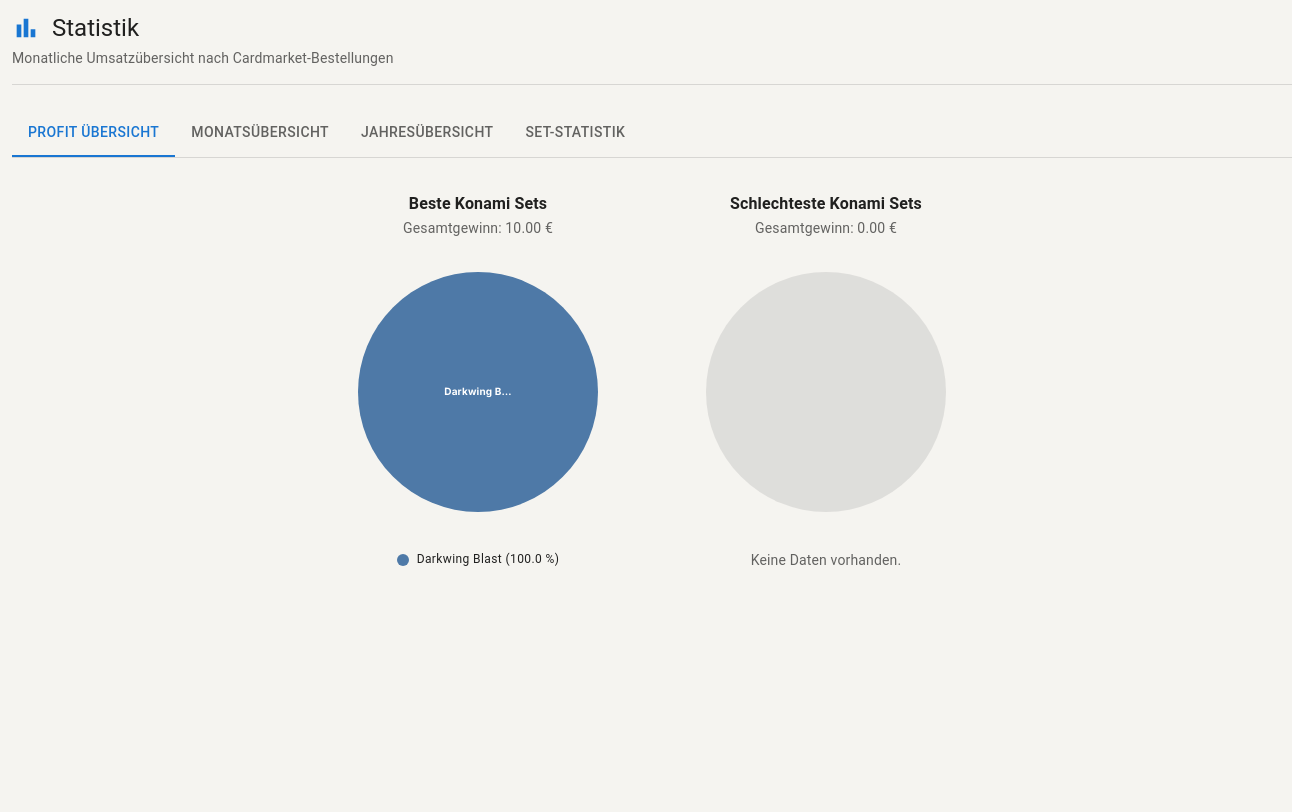
Test: Statistik › shows monthly rows in Monatsübersicht tab after clicking it
Step 1. Click the tab "Monatsübersicht" → x=260, y=133, box [175,109,345,157]
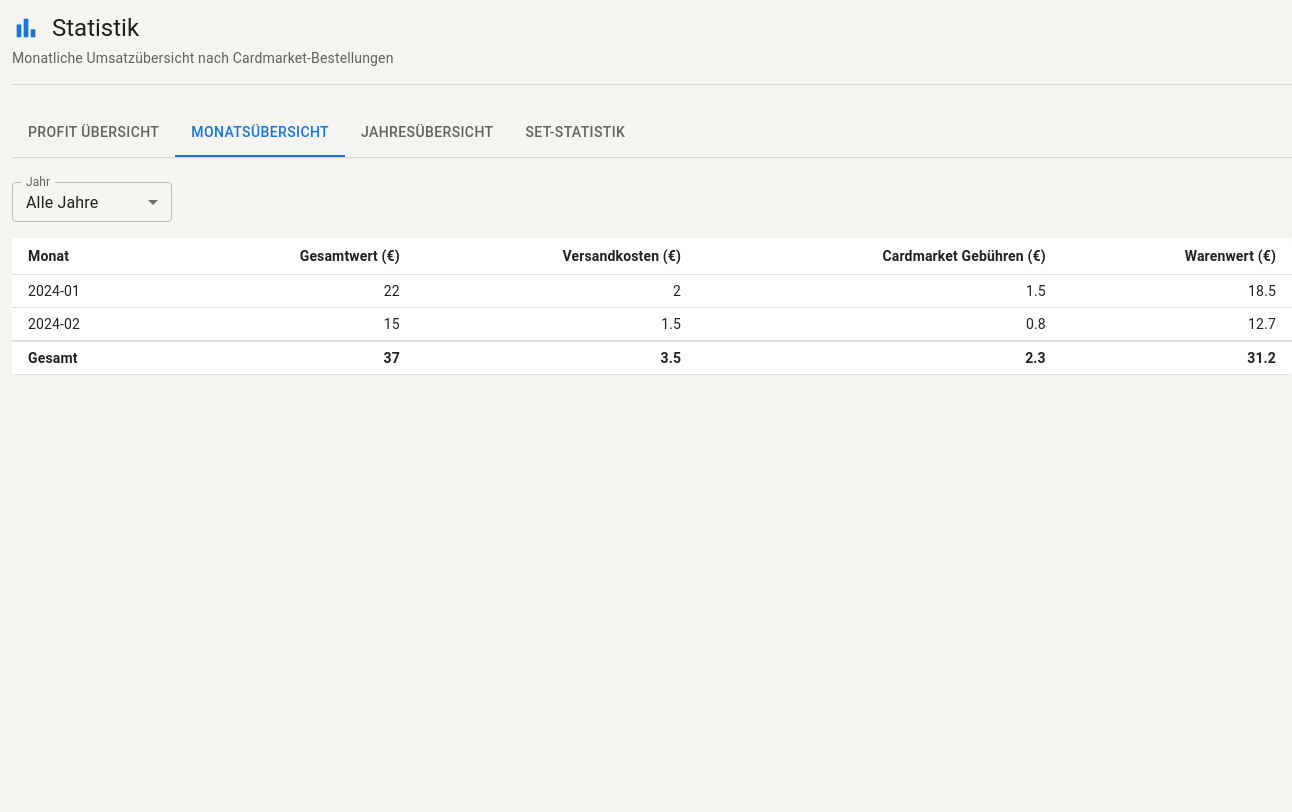
Check: the text "2024-01" is shown, box [12,274,169,308]
Check: the text "2024-02" is shown, box [12,308,169,341]
